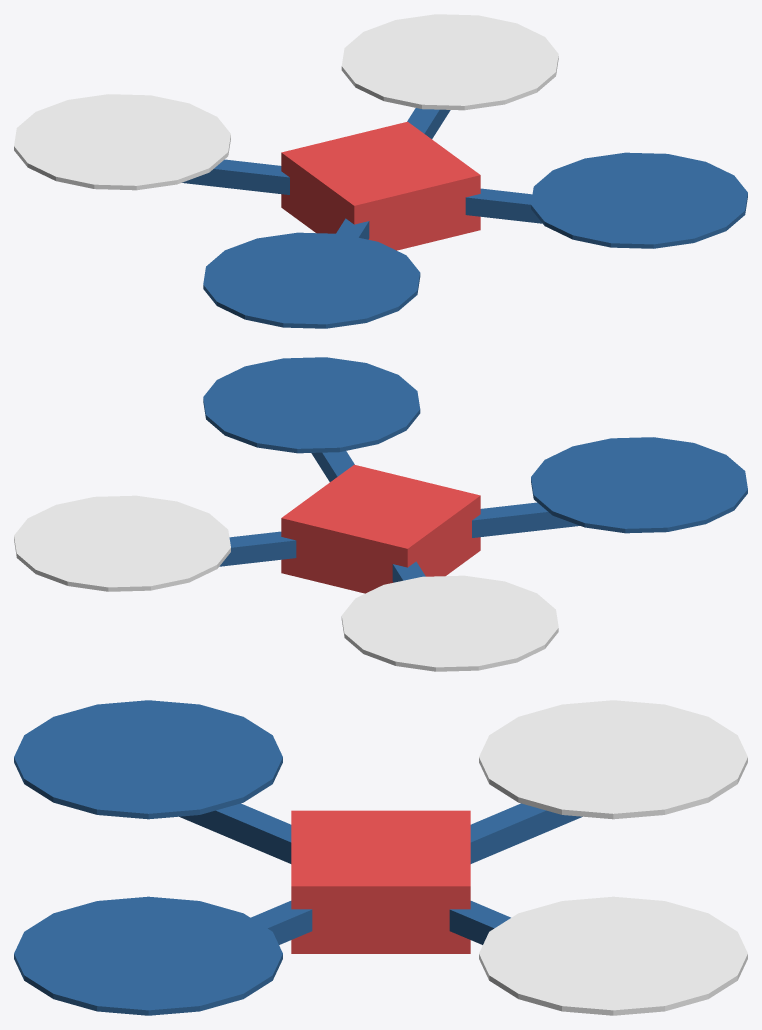
Rendered from quad_3.glb.
The picture shows the model from 3 angles, top to bottom: view 1: azimuth 30°, elevation 25°; view 2: azimuth 150°, elevation 25°; view 3: azimuth 270°, elevation 25°; orthographic projection. The views are drawn at different scales.
Bounding box in the file's own units: 2.46 × 0.25 × 2.46.
